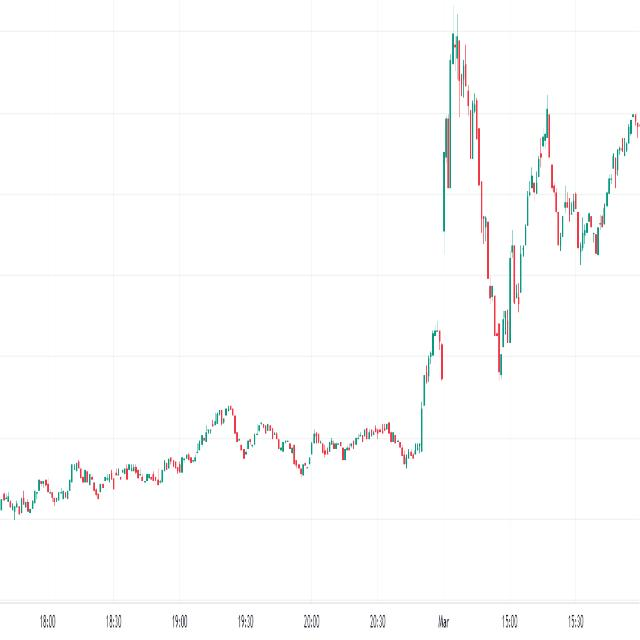Triangle: (436, 0, 618, 456)
